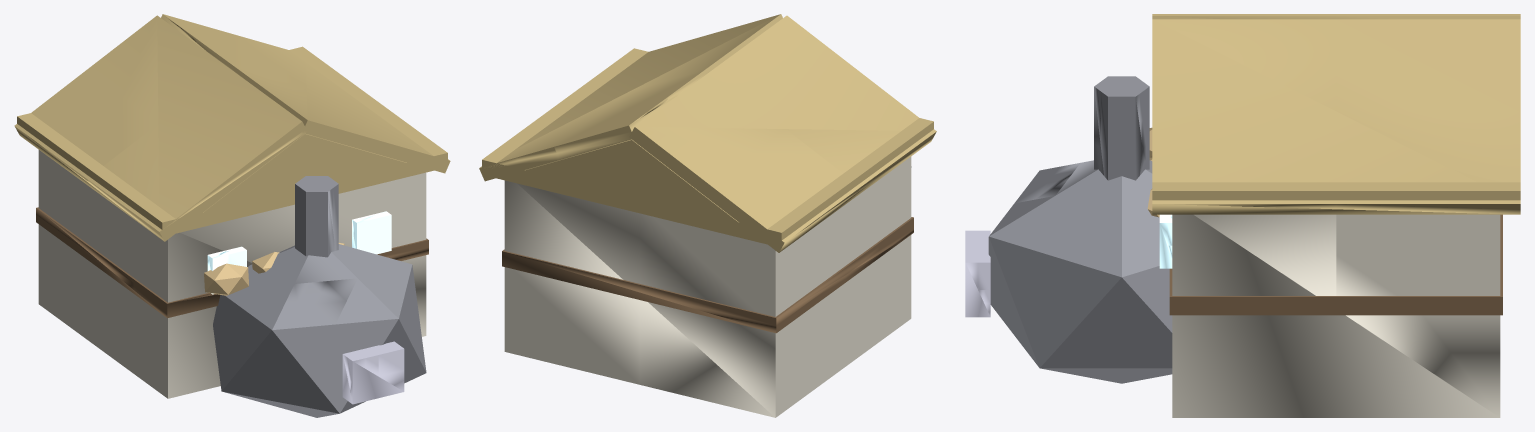
The model's file is bakery.glb.
The picture shows the model from 3 angles, left to right: view 1: azimuth 30°, elevation 25°; view 2: azimuth 150°, elevation 25°; view 3: azimuth 270°, elevation 25°; orthographic projection. The views are drawn at different scales.
Visible parts, largest first — view 1: BakeryWall; view 2: BakeryWall; view 3: BakeryWall.
Part boxes in pixels (bbox=[...]): BakeryWall: bbox=[14, 14, 450, 417]; BakeryWall: bbox=[479, 14, 936, 417]; BakeryWall: bbox=[965, 14, 1520, 417].
Bounding box in the file's own units: 1.69 × 1.6 × 2.2.
